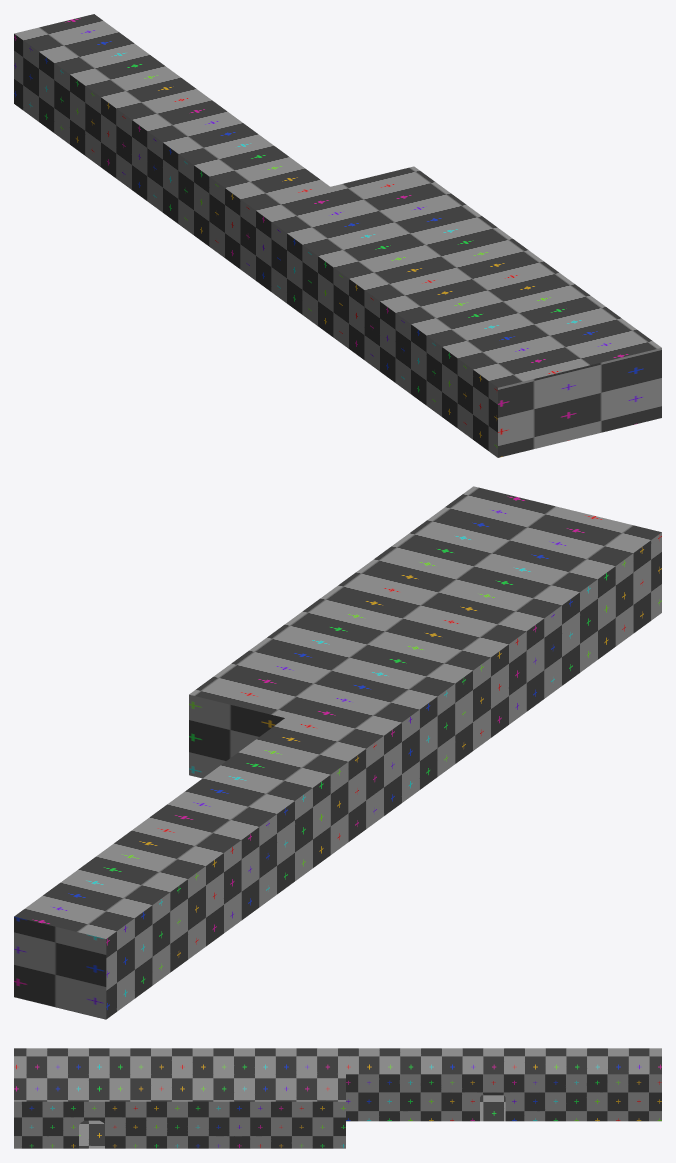
Rendered from scenario_prototype_interior_floor_02_right.fbx.
3 views of the same model, one above another, from view 1: azimuth 30°, elevation 25°; view 2: azimuth 150°, elevation 25°; view 3: azimuth 270°, elevation 25° (orthographic). The views are drawn at different scales.
Visible parts, largest first — view 1: interior_floor02_right; view 2: interior_floor02_right; view 3: interior_floor02_right.
Part boxes in pixels (<box>): interior_floor02_right: <box>14,14,661,457</box>; interior_floor02_right: <box>14,486,661,1019</box>; interior_floor02_right: <box>14,1048,661,1148</box>.
Bounding box in the file's own units: 979 × 400 × 5000.
